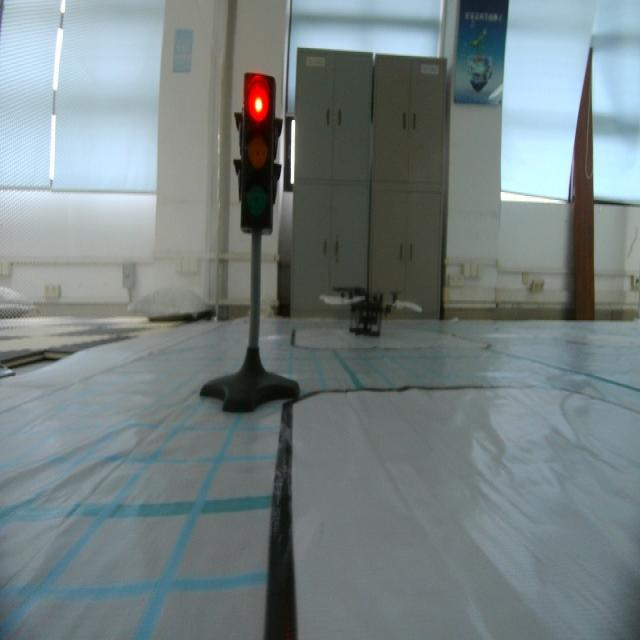red: (235, 72, 283, 235)
